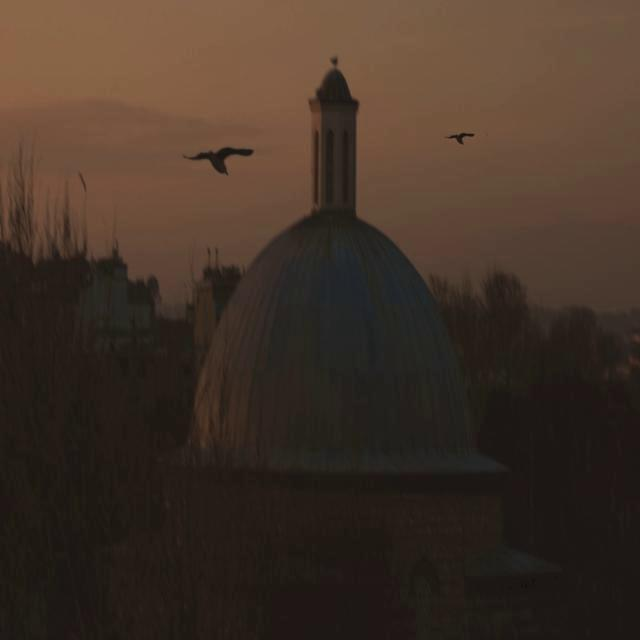bird: (180, 140, 258, 182), (436, 122, 481, 154), (72, 168, 95, 196), (322, 50, 343, 66)
